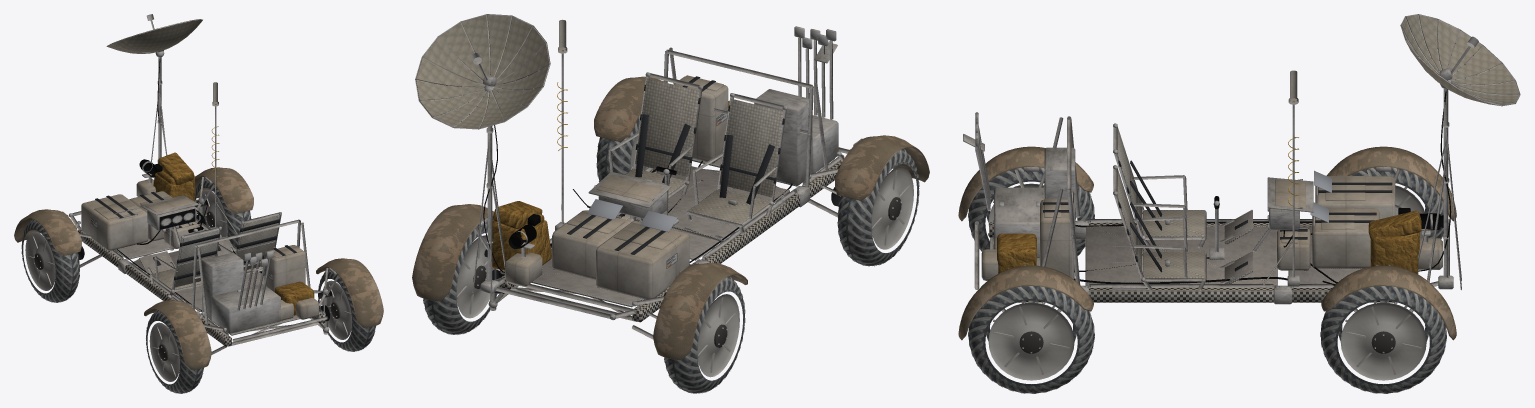
File: lrv.glb
The picture shows the model from 3 angles, left to right: view 1: azimuth 30°, elevation 25°; view 2: azimuth 150°, elevation 25°; view 3: azimuth 270°, elevation 25°; orthographic projection. The views are drawn at different scales.
Visible parts, largest first — view 1: body, wheelFL_tyre, wheelRL_tyre, wheelRR_wing, wheelRL_wing, wheelRR_tyre, wheelFL_wing, wheelFR_wing, wheelFR_tyre; view 2: body, wheelRL_tyre, wheelFL_tyre, wheelFL_wing, wheelFR_wing, wheelFR_tyre, wheelRL_wing, wheelRR_wing, wheelRR_tyre; view 3: body, wheelRR_tyre, wheelFR_tyre, wheelRR_wing, wheelFR_wing, wheelFL_wing, wheelRL_tyre, wheelRL_wing, wheelFL_tyre.
Part boxes in pixels (x1,y1,x2,y2): body: [69, 14, 332, 354]; wheelFL_tyre: [21, 219, 79, 302]; wheelRL_tyre: [146, 310, 203, 393]; wheelRR_wing: [316, 258, 383, 327]; wheelRL_wing: [144, 300, 211, 369]; wheelRR_tyre: [318, 268, 375, 351]; wheelFL_wing: [14, 209, 81, 255]; wheelFR_wing: [195, 167, 253, 213]; wheelFR_tyre: [195, 177, 251, 247]; body: [415, 14, 849, 339]; wheelRL_tyre: [837, 149, 919, 266]; wheelFL_tyre: [664, 276, 745, 393]; wheelFL_wing: [653, 262, 747, 360]; wheelFR_wing: [412, 204, 494, 301]; wheelFR_tyre: [423, 223, 498, 334]; wheelRL_wing: [835, 135, 929, 200]; wheelRR_wing: [594, 76, 663, 141]; wheelRR_tyre: [596, 114, 647, 182]; body: [963, 14, 1520, 312]; wheelRR_tyre: [968, 286, 1094, 393]; wheelFR_tyre: [1320, 286, 1446, 393]; wheelRR_wing: [958, 265, 1093, 340]; wheelFR_wing: [1321, 265, 1456, 340]; wheelFL_wing: [1326, 146, 1456, 221]; wheelRL_tyre: [968, 167, 1094, 255]; wheelRL_wing: [958, 146, 1093, 221]; wheelFL_tyre: [1350, 167, 1443, 239].
Bounding box in the file's own units: 2.13 × 2.43 × 3.66.
Materials: 24 (16 with a texture image).
